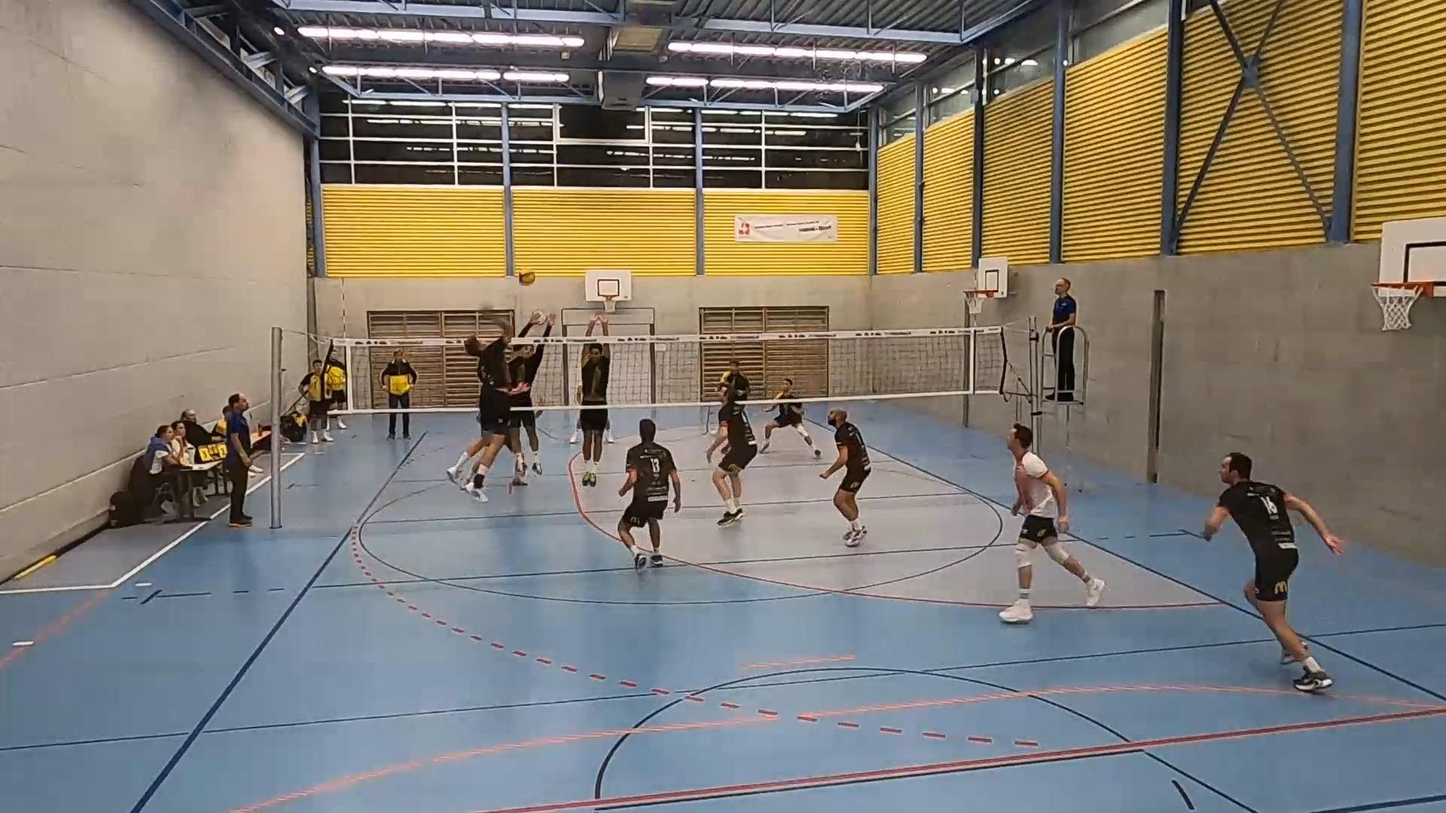Attack: (468, 311, 534, 503)
Block: (507, 305, 557, 479), (570, 309, 614, 490)
Player: (1204, 452, 1344, 692), (999, 424, 1105, 623), (618, 419, 681, 569), (706, 374, 757, 525), (820, 409, 870, 547), (760, 378, 821, 458), (718, 359, 746, 387), (568, 415, 581, 444)
ball: (518, 268, 540, 283)
